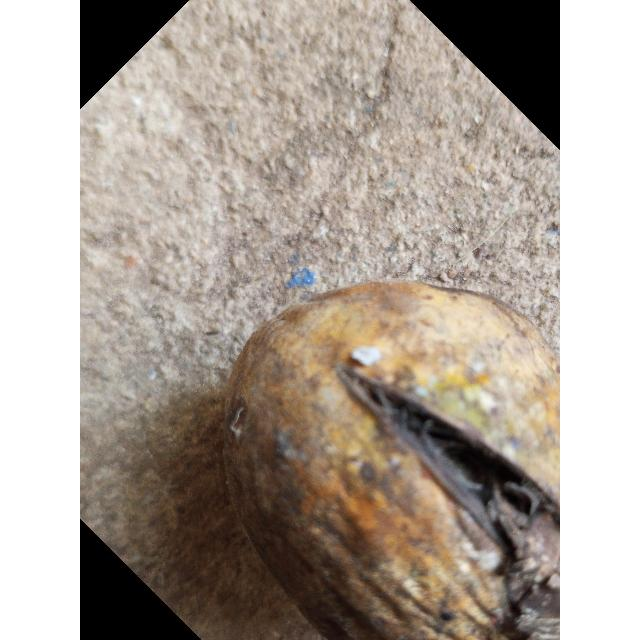damaged: (223, 282, 560, 640)
